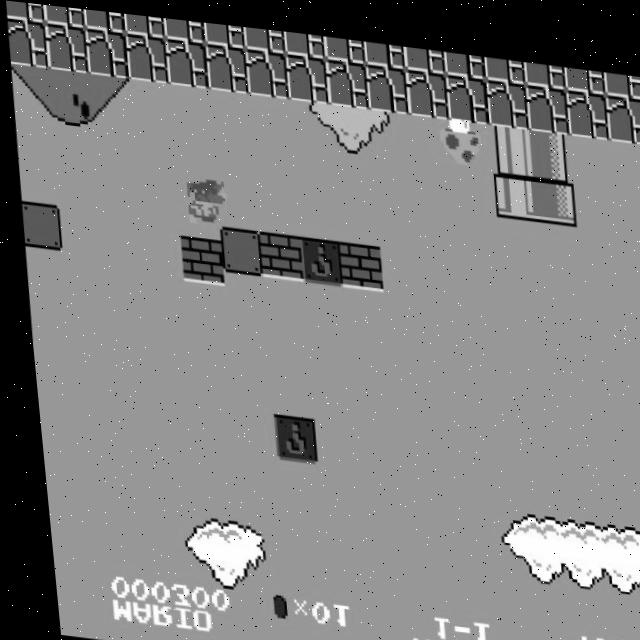1- brick_block: (253, 225, 299, 275), (334, 233, 379, 284)
11- little_mario: (179, 172, 227, 224)
12- mushroom: (433, 104, 481, 158)
13- mystery_block: (264, 408, 310, 458), (293, 229, 339, 279)
14- pipe: (526, 118, 572, 168), (486, 113, 531, 164)
15- pipe_head: (488, 158, 534, 209), (528, 163, 574, 214)
17- undestructible_block: (203, 38, 249, 89), (243, 42, 289, 93), (283, 46, 329, 97), (443, 63, 489, 114), (483, 67, 529, 118), (123, 30, 169, 80), (163, 34, 209, 84), (323, 51, 369, 101), (363, 55, 409, 105), (403, 59, 449, 109), (523, 72, 569, 122), (43, 21, 88, 72), (83, 25, 128, 76), (564, 76, 609, 126), (6, 17, 47, 68), (603, 80, 640, 130), (322, 28, 365, 56), (523, 49, 566, 77), (563, 53, 606, 81), (363, 32, 405, 60), (403, 36, 445, 64), (483, 45, 526, 72), (443, 41, 485, 68), (242, 21, 285, 47), (282, 25, 325, 51), (162, 14, 205, 39), (202, 18, 245, 43), (602, 57, 640, 84), (122, 11, 165, 34), (82, 7, 124, 30), (42, 4, 84, 26), (5, 0, 43, 22)
3- empty_block: (213, 220, 259, 271), (16, 200, 58, 250)
